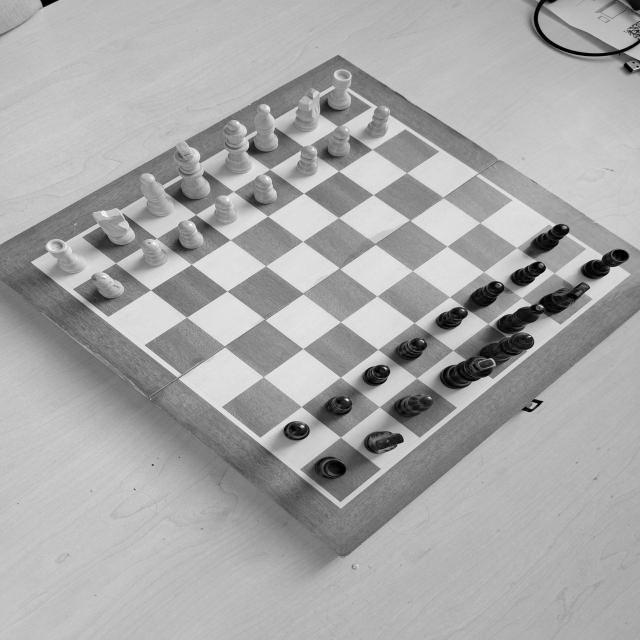chess-table-corners: (326, 491, 354, 511), (616, 268, 633, 280)
